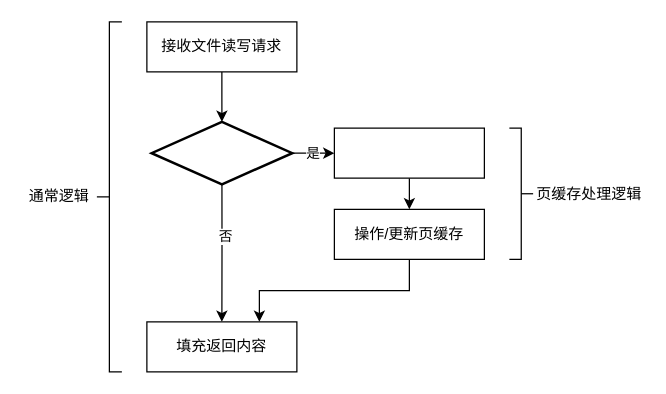
Some shapes in this 666 by 394 pixel diagram are drawn without their labels. Here are the shapes that lost their labels. From the top down, the centre of each, then its label:
(x=221, y=152): 页缓存打开?
(x=408, y=152): 切分请求
